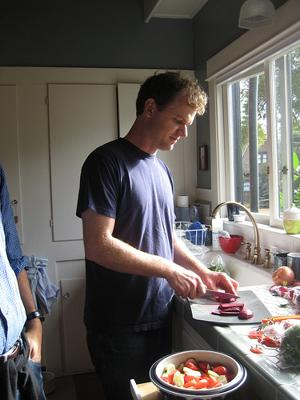person: (76, 71, 238, 398)
